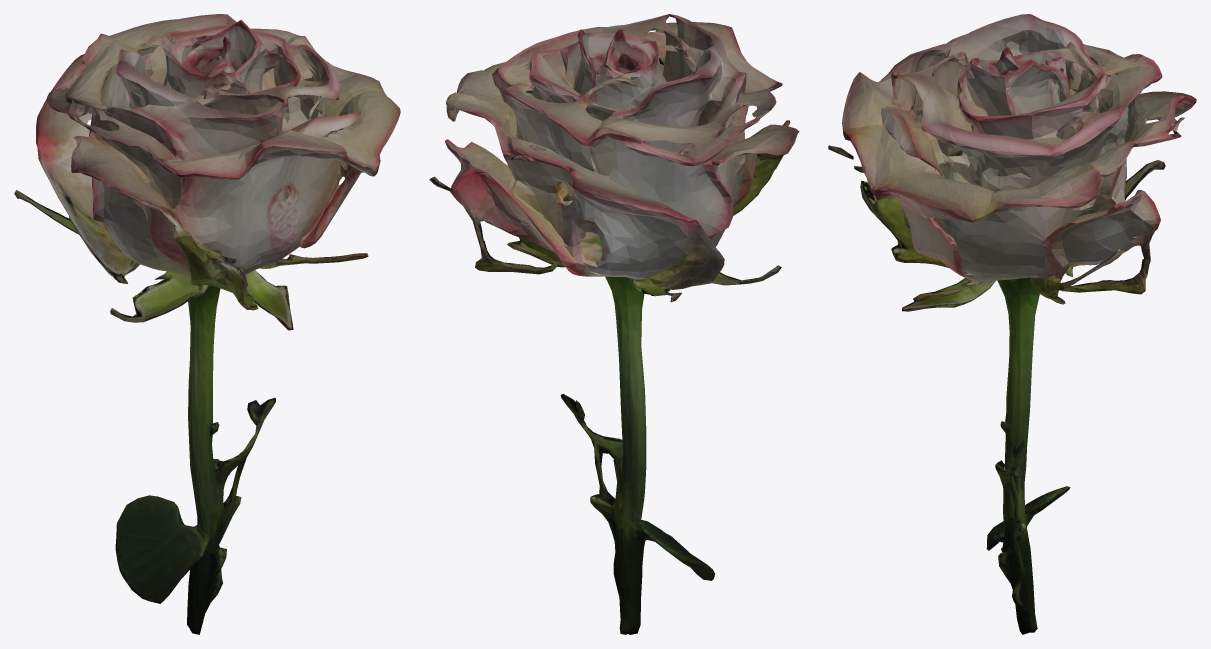
The picture shows the model from 3 angles, left to right: view 1: azimuth 30°, elevation 25°; view 2: azimuth 150°, elevation 25°; view 3: azimuth 270°, elevation 25°; orthographic projection.
Parts seen in each view (by area): view 1: world; view 2: world; view 3: world.
Part boxes in pixels (<box>): world: <box>14,14,400,634</box>; world: <box>429,14,799,634</box>; world: <box>828,14,1196,634</box>.
Size of the model in its own units: 0.5312 by 0.9581 by 0.5351.
Materials: 1 (1 with a texture image).
